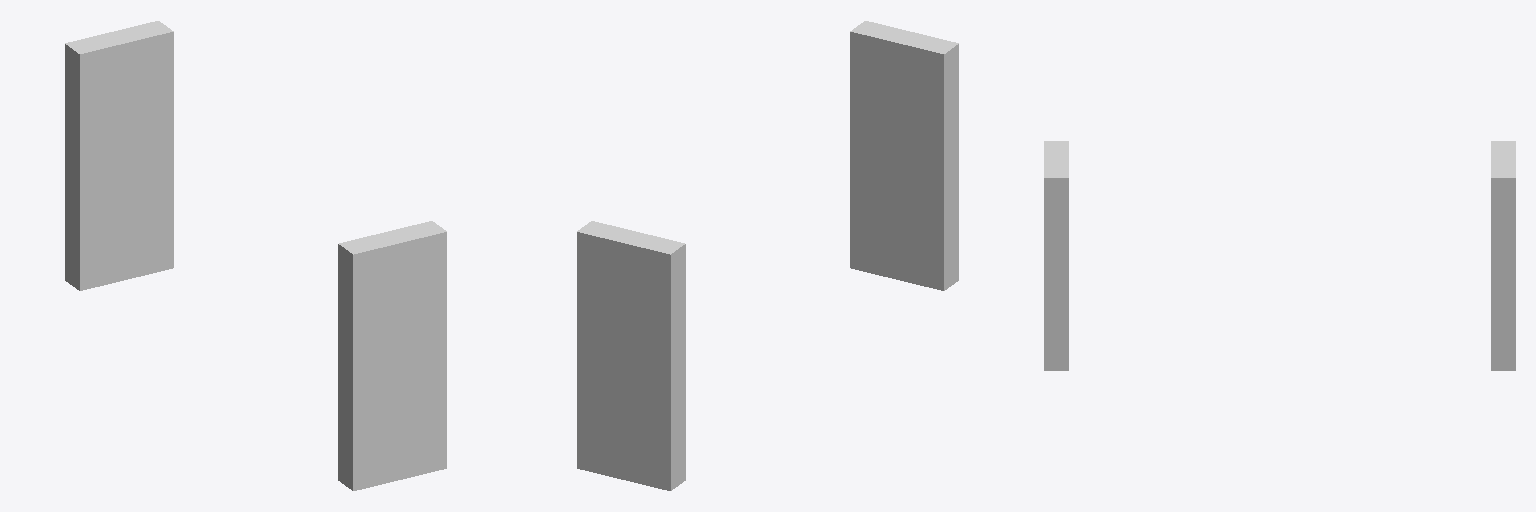
robot.urdf — 2f140:
<robot name="2f140">
    <link name="robotiq_arg2f_base_link">
        <inertial>
            <origin rpy="0 0 0" xyz="8.625E-08 -4.6583E-06 0.03145"/>
            <mass value="0.22652"/>
            <inertia ixx="0.00020005" ixy="-4.2442E-10" ixz="-2.9069E-10" iyy="0.00017832" iyz="-3.4402E-08"
                     izz="0.00013478"/>
        </inertial>
        <visual>
            <origin rpy="0 0 0" xyz="0 0 0"/>
            <geometry>
                <mesh filename="meshes/robotiq_2f140/visual/robotiq_arg2f_base_link.stl"/>
            </geometry>
            <material name="">
                <color rgba="0.1 0.1 0.1 1"/>
            </material>
        </visual>
        <collision>
            <origin rpy="0 0 0" xyz="0 0 0"/>
            <geometry>
                <mesh filename="meshes/robotiq_2f140/collision/robotiq_arg2f_base_link.stl"/>
            </geometry>
        </collision>
    </link>
    <link name="robotiq_arg2f_coupling">
        <inertial>
            <origin rpy="0 0 0" xyz="0 0 0"/>
            <mass value="0.05"/>
            <inertia ixx="2E-06" ixy="-4E-10" ixz="-2E-10" iyy="2E-06" iyz="-3E-08" izz="2E-06"/>
        </inertial>
        <visual>
            <origin rpy="0 0 0" xyz="0 0 0"/>
            <geometry>
                <mesh filename="meshes/robotiq_2f140/visual/robotiq_arg2f_coupling.stl" scale="0.001 0.001 0.001"/>
            </geometry>
            <material name="">
                <color rgba="0.1 0.1 0.1 1"/>
            </material>
        </visual>
        <collision>
            <origin rpy="0 0 0" xyz="0 0 0"/>
            <geometry>
                <mesh filename="meshes/robotiq_2f140/collision/robotiq_arg2f_coupling.stl" scale="0.001 0.001 0.001"/>
            </geometry>
        </collision>
    </link>
    <link name="left_outer_knuckle">
        <inertial>
            <origin rpy="0 0 0" xyz="-0.000200000000003065 0.0199435877845359 0.0292245259211331"/>
            <mass value="0.00853198276973456"/>
            <inertia ixx="2.89328108496468E-06" ixy="-1.57935047237397E-19" ixz="-1.93980378593255E-19"
                     iyy="1.86719750325683E-06" iyz="-1.21858577871576E-06" izz="1.21905238907251E-06"/>
        </inertial>
        <visual>
            <origin rpy="0 0 0" xyz="0 0 0"/>
            <geometry>
                <mesh filename="meshes/robotiq_2f140/visual/robotiq_arg2f_140_outer_knuckle.stl"/>
            </geometry>
            <material name="">
                <color rgba="0.792156862745098 0.819607843137255 0.933333333333333 1"/>
            </material>
        </visual>
        <collision>
            <origin rpy="0 0 0" xyz="0 0 0"/>
            <geometry>
                <mesh filename="meshes/robotiq_2f140/collision/robotiq_arg2f_140_outer_knuckle.stl"/>
            </geometry>
        </collision>
    </link>
    <link name="left_outer_finger">
        <inertial>
            <origin rpy="0 0 0" xyz="0.00030115855001899 0.0373907951953854 -0.0208027427000385"/>
            <mass value="0.022614240507152"/>
            <inertia ixx="1.52518312458174E-05" ixy="9.76583423954399E-10" ixz="-5.43838577022588E-10"
                     iyy="6.17694243867776E-06" iyz="6.78636130740228E-06" izz="1.16494917907219E-05"/>
        </inertial>
        <visual>
            <origin rpy="0 0 0" xyz="0 0 0"/>
            <geometry>
                <mesh filename="meshes/robotiq_2f140/visual/robotiq_arg2f_140_outer_finger.stl"/>
            </geometry>
            <material name="">
                <color rgba="0.1 0.1 0.1 1"/>
            </material>
        </visual>
        <collision>
            <origin rpy="0 0 0" xyz="0 0 0"/>
            <geometry>
                <mesh filename="meshes/robotiq_2f140/collision/robotiq_arg2f_140_outer_finger.stl"/>
            </geometry>
        </collision>
    </link>
    <link name="left_inner_finger">
        <inertial>
            <origin rpy="0 0 0" xyz="0.000299999999999317 0.0160078233491243 -0.0136945669206257"/>
            <mass value="0.0104003125914103"/>
            <inertia ixx="2.71909453810972E-06" ixy="1.35402465472579E-21" ixz="-7.1817349065269E-22"
                     iyy="7.69100314106116E-07" iyz="6.74715432769696E-07" izz="2.30315190420171E-06"/>
        </inertial>
        <visual>
            <origin rpy="0 0 0" xyz="0 0 0"/>
            <geometry>
                <mesh filename="meshes/robotiq_2f140/visual/robotiq_arg2f_140_inner_finger.stl"/>
            </geometry>
            <material name="">
                <color rgba="0.1 0.1 0.1 1"/>
            </material>
        </visual>
        <collision>
            <origin rpy="0 0 0" xyz="0 0 0"/>
            <geometry>
                <mesh filename="meshes/robotiq_2f140/collision/robotiq_arg2f_140_inner_finger.stl"/>
            </geometry>
        </collision>
    </link>
    <link name="left_inner_finger_pad">
        <visual>
            <origin rpy="0 0 0" xyz="0 0 0"/>
            <geometry>
                <box size="0.027 0.065 0.0075"/>
            </geometry>
            <material name="">
                <color rgba="0.9 0.9 0.9 1"/>
            </material>
        </visual>
        <collision>
            <origin rpy="0 0 0" xyz="0 0 0"/>
            <geometry>
                <box size="0.03 0.07 0.0075"/>
            </geometry>
            <material name="">
                <color rgba="0.9 0.0 0.0 1"/>
            </material>
        </collision>
    </link>
    <link name="left_inner_knuckle">
        <inertial>
            <origin rpy="0 0 0" xyz="0.000123011831763771 0.0507850843201817 0.00103968640075166"/>
            <mass value="0.0271177346495152"/>
            <inertia ixx="2.61910379223783E-05" ixy="-2.43616858946494E-07" ixz="-6.37789906117123E-09"
                     iyy="2.8270243746167E-06" iyz="-5.37200748039765E-07" izz="2.83695868220296E-05"/>
        </inertial>
        <visual>
            <origin rpy="0 0 0" xyz="0 0 0"/>
            <geometry>
                <mesh filename="meshes/robotiq_2f140/visual/robotiq_arg2f_140_inner_knuckle.stl"/>
            </geometry>
            <material name="">
                <color rgba="0.1 0.1 0.1 1"/>
            </material>
        </visual>
        <collision>
            <origin rpy="0 0 0" xyz="0 0 0"/>
            <geometry>
                <mesh filename="meshes/robotiq_2f140/collision/robotiq_arg2f_140_inner_knuckle.stl"/>
            </geometry>
        </collision>
    </link>
    <link name="right_outer_knuckle">
        <inertial>
            <origin rpy="0 0 0" xyz="-0.000200000000003065 0.0199435877845359 0.0292245259211331"/>
            <mass value="0.00853198276973456"/>
            <inertia ixx="2.89328108496468E-06" ixy="-1.57935047237397E-19" ixz="-1.93980378593255E-19"
                     iyy="1.86719750325683E-06" iyz="-1.21858577871576E-06" izz="1.21905238907251E-06"/>
        </inertial>
        <visual>
            <origin rpy="0 0 0" xyz="0 0 0"/>
            <geometry>
                <mesh filename="meshes/robotiq_2f140/visual/robotiq_arg2f_140_outer_knuckle.stl"/>
            </geometry>
            <material name="">
                <color rgba="0.792156862745098 0.819607843137255 0.933333333333333 1"/>
            </material>
        </visual>
        <collision>
            <origin rpy="0 0 0" xyz="0 0 0"/>
            <geometry>
                <mesh filename="meshes/robotiq_2f140/collision/robotiq_arg2f_140_outer_knuckle.stl"/>
            </geometry>
        </collision>
    </link>
    <link name="right_outer_finger">
        <inertial>
            <origin rpy="0 0 0" xyz="0.00030115855001899 0.0373907951953854 -0.0208027427000385"/>
            <mass value="0.022614240507152"/>
            <inertia ixx="1.52518312458174E-05" ixy="9.76583423954399E-10" ixz="-5.43838577022588E-10"
                     iyy="6.17694243867776E-06" iyz="6.78636130740228E-06" izz="1.16494917907219E-05"/>
        </inertial>
        <visual>
            <origin rpy="0 0 0" xyz="0 0 0"/>
            <geometry>
                <mesh filename="meshes/robotiq_2f140/visual/robotiq_arg2f_140_outer_finger.stl"/>
            </geometry>
            <material name="">
                <color rgba="0.1 0.1 0.1 1"/>
            </material>
        </visual>
        <collision>
            <origin rpy="0 0 0" xyz="0 0 0"/>
            <geometry>
                <mesh filename="meshes/robotiq_2f140/collision/robotiq_arg2f_140_outer_finger.stl"/>
            </geometry>
        </collision>
    </link>
    <link name="right_inner_finger">
        <inertial>
            <origin rpy="0 0 0" xyz="0.000299999999999317 0.0160078233491243 -0.0136945669206257"/>
            <mass value="0.0104003125914103"/>
            <inertia ixx="2.71909453810972E-06" ixy="1.35402465472579E-21" ixz="-7.1817349065269E-22"
                     iyy="7.69100314106116E-07" iyz="6.74715432769696E-07" izz="2.30315190420171E-06"/>
        </inertial>
        <visual>
            <origin rpy="0 0 0" xyz="0 0 0"/>
            <geometry>
                <mesh filename="meshes/robotiq_2f140/visual/robotiq_arg2f_140_inner_finger.stl"/>
            </geometry>
            <material name="">
                <color rgba="0.1 0.1 0.1 1"/>
            </material>
        </visual>
        <collision>
            <origin rpy="0 0 0" xyz="0 0 0"/>
            <geometry>
                <mesh filename="meshes/robotiq_2f140/collision/robotiq_arg2f_140_inner_finger.stl"/>
            </geometry>
        </collision>
    </link>
    <link name="right_inner_finger_pad">
        <visual>
            <origin rpy="0 0 0" xyz="0 0 0"/>
            <geometry>
                <box size="0.027 0.065 0.0075"/>
            </geometry>
            <material name="">
                <color rgba="0.9 0.9 0.9 1"/>
            </material>
        </visual>
        <collision>
            <origin rpy="0 0 0" xyz="0 0 0"/>
            <geometry>
                <box size="0.03 0.07 0.0075"/>
            </geometry>
            <material name="">
                <color rgba="0.9 0.0 0.0 1"/>
            </material>
        </collision>
    </link>
    <link name="right_inner_knuckle">
        <inertial>
            <origin rpy="0 0 0" xyz="0.000123011831763771 0.0507850843201817 0.00103968640075166"/>
            <mass value="0.0271177346495152"/>
            <inertia ixx="2.61910379223783E-05" ixy="-2.43616858946494E-07" ixz="-6.37789906117123E-09"
                     iyy="2.8270243746167E-06" iyz="-5.37200748039765E-07" izz="2.83695868220296E-05"/>
        </inertial>
        <visual>
            <origin rpy="0 0 0" xyz="0 0 0"/>
            <geometry>
                <mesh filename="meshes/robotiq_2f140/visual/robotiq_arg2f_140_inner_knuckle.stl"/>
            </geometry>
            <material name="">
                <color rgba="0.1 0.1 0.1 1"/>
            </material>
        </visual>
        <collision>
            <origin rpy="0 0 0" xyz="0 0 0"/>
            <geometry>
                <mesh filename="meshes/robotiq_2f140/collision/robotiq_arg2f_140_inner_knuckle.stl"/>
            </geometry>
        </collision>
    </link>
    <joint name="finger_joint" type="revolute">
        <origin rpy="2.29579632679 0 0" xyz="0 -0.030601 0.054905"/>
        <parent link="robotiq_arg2f_base_link"/>
        <child link="left_outer_knuckle"/>
        <axis xyz="-1 0 0"/>
        <limit effort="1000" lower="0" upper="0.7" velocity="2.0"/>
    </joint>
    <joint name="left_outer_finger_joint" type="fixed">
        <origin rpy="0 0 0" xyz="0 0.01821998610742 0.0260018192872234"/>
        <parent link="left_outer_knuckle"/>
        <child link="left_outer_finger"/>
        <axis xyz="1 0 0"/>
    </joint>
    <joint name="left_inner_knuckle_joint" type="revolute">
        <origin rpy="2.29579632679 0 0.0" xyz="0 -0.0127 0.06142"/>
        <parent link="robotiq_arg2f_base_link"/>
        <child link="left_inner_knuckle"/>
        <axis xyz="1 0 0"/>
        <limit effort="1000" lower="-0.8757" upper="0.8757" velocity="2.0"/>
        <mimic joint="finger_joint" multiplier="-1" offset="0"/>
    </joint>
    <joint name="left_inner_finger_joint" type="revolute">
        <origin rpy="-0.725 0 0" xyz="0 0.0817554015893473 -0.0282203446692936"/>
        <parent link="left_outer_finger"/>
        <child link="left_inner_finger"/>
        <axis xyz="1 0 0"/>
        <limit effort="1000" lower="-0.8757" upper="0.8757" velocity="2.0"/>
        <mimic joint="finger_joint" multiplier="1" offset="0"/>
    </joint>
    <joint name="left_inner_finger_pad_joint" type="fixed">
        <origin rpy="0 0 0" xyz="0 0.0457554015893473 -0.0272203446692936"/>
        <parent link="left_inner_finger"/>
        <child link="left_inner_finger_pad"/>
        <axis xyz="0 0 1"/>
    </joint>
    <joint name="right_outer_knuckle_joint" type="revolute">
        <origin rpy="2.29579632679 0 3.14159265359" xyz="0 0.030601 0.054905"/>
        <parent link="robotiq_arg2f_base_link"/>
        <child link="right_outer_knuckle"/>
        <axis xyz="1 0 0"/>
        <limit effort="1000" lower="-0.725" upper="0.725" velocity="2.0"/>
        <mimic joint="finger_joint" multiplier="-1" offset="0"/>
    </joint>
    <joint name="right_outer_finger_joint" type="fixed">
        <origin rpy="0 0 0" xyz="0 0.01821998610742 0.0260018192872234"/>
        <parent link="right_outer_knuckle"/>
        <child link="right_outer_finger"/>
        <axis xyz="1 0 0"/>
    </joint>
    <joint name="right_inner_knuckle_joint" type="revolute">
        <origin rpy="2.29579632679 0 -3.14159265359" xyz="0 0.0127 0.06142"/>
        <parent link="robotiq_arg2f_base_link"/>
        <child link="right_inner_knuckle"/>
        <axis xyz="1 0 0"/>
        <limit effort="1000" lower="-0.8757" upper="0.8757" velocity="2.0"/>
        <mimic joint="finger_joint" multiplier="-1" offset="0"/>
    </joint>
    <joint name="right_inner_finger_joint" type="revolute">
        <origin rpy="-0.725 0 0" xyz="0 0.0817554015893473 -0.0282203446692936"/>
        <parent link="right_outer_finger"/>
        <child link="right_inner_finger"/>
        <axis xyz="1 0 0"/>
        <limit effort="1000" lower="-0.8757" upper="0.8757" velocity="2.0"/>
        <mimic joint="finger_joint" multiplier="1" offset="0"/>
    </joint>
    <joint name="right_inner_finger_pad_joint" type="fixed">
        <origin rpy="0 0 0" xyz="0 0.0457554015893473 -0.0272203446692936"/>
        <parent link="right_inner_finger"/>
        <child link="right_inner_finger_pad"/>
        <axis xyz="0 0 1"/>
    </joint>
    <transmission name="finger_joint_trans">
        <type>transmission_interface/SimpleTransmission</type>
        <joint name="finger_joint">
            <hardwareInterface>hardware_interface/PositionJointInterface</hardwareInterface>
        </joint>
        <actuator name="finger_joint_motor">
            <mechanicalReduction>1</mechanicalReduction>
        </actuator>
    </transmission>
    <gazebo>
        <!-- loading plugin: mimic joints works in gazebo now-->
        <plugin filename="libroboticsgroup_gazebo_mimic_joint_plugin.so" name="mimic_robotiq_140_4">
            <joint>finger_joint</joint>
            <mimicJoint>right_outer_knuckle_joint</mimicJoint>
            <multiplier>-1.0</multiplier>
        </plugin>
        <plugin filename="libroboticsgroup_gazebo_mimic_joint_plugin.so" name="mimic_robotiq_140_2">
            <joint>finger_joint</joint>
            <mimicJoint>left_inner_finger_joint</mimicJoint>
            <multiplier>1.0</multiplier>
            <!--<offset>0.0</offset>-->
        </plugin>
        <plugin filename="libroboticsgroup_gazebo_mimic_joint_plugin.so" name="mimic_robotiq_140_1">
            <joint>finger_joint</joint>
            <mimicJoint>right_inner_finger_joint</mimicJoint>
            <multiplier>1.0</multiplier>
        </plugin>
        <plugin filename="libroboticsgroup_gazebo_mimic_joint_plugin.so" name="mimic_robotiq_140_3">
            <joint>finger_joint</joint>
            <mimicJoint>left_inner_knuckle_joint</mimicJoint>
            <multiplier>-1.0</multiplier>
        </plugin>
        <plugin filename="libroboticsgroup_gazebo_mimic_joint_plugin.so" name="mimic_robotiq_140_5">
            <joint>finger_joint</joint>
            <mimicJoint>right_inner_knuckle_joint</mimicJoint>
            <multiplier>-1.0</multiplier>
        </plugin>
    </gazebo>
    <joint name="base_coupling" type="fixed">
        <origin rpy="0 0 0" xyz="0 0 0"/>
        <parent link="robotiq_arg2f_coupling"/>
        <child link="robotiq_arg2f_base_link"/>
    </joint>
</robot>

--- Facts derived from the render (not from the file) ---
The picture shows the robot from 3 angles, left to right: view 1: azimuth 30°, elevation 25°; view 2: azimuth 150°, elevation 25°; view 3: azimuth 270°, elevation 25°; orthographic projection.
Robot: 2f140 — 12 links, 11 joints (6 revolute, 5 fixed); root link robotiq_arg2f_coupling; default pose: all joints at 0.
Links seen in each view (by area): view 1: left_inner_finger_pad, right_inner_finger_pad; view 2: left_inner_finger_pad, right_inner_finger_pad; view 3: left_inner_finger_pad, right_inner_finger_pad.
Boxes of the visible links, <box> form: left_inner_finger_pad: <box>338,221,446,490</box>; right_inner_finger_pad: <box>65,21,173,290</box>; left_inner_finger_pad: <box>850,21,958,290</box>; right_inner_finger_pad: <box>577,221,685,490</box>; left_inner_finger_pad: <box>1044,141,1068,370</box>; right_inner_finger_pad: <box>1491,141,1515,370</box>.
Size in the robot's own frame: 0.027 by 0.1435 by 0.065 metres.
Meshes: 6 distinct files referenced, 0 mesh visuals loaded (none loaded); not drawn: 10 (reference not matched to a file when rendering).